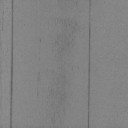surface scratch: (9, 0, 14, 128), (87, 0, 91, 128)
